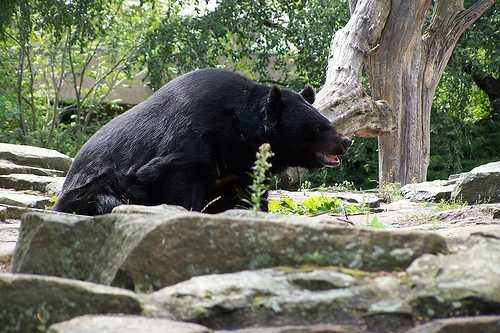bear: (237, 70, 365, 198)
